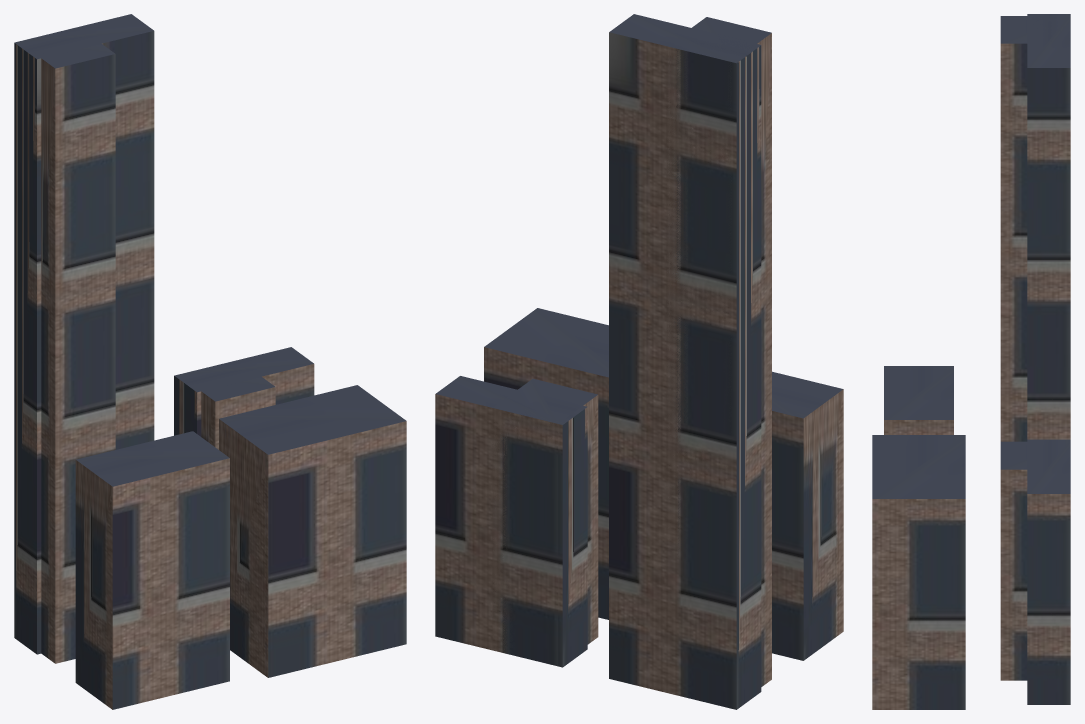
The model's file is block_12.obj.
The picture shows the model from 3 angles, left to right: view 1: azimuth 30°, elevation 25°; view 2: azimuth 150°, elevation 25°; view 3: azimuth 270°, elevation 25°; orthographic projection. The views are drawn at different scales.
Visible parts, largest first — view 1: b0, b3, b1, b2; view 2: b0, b2, b1, b3; view 3: b0, b3, b2, b1.
Part boxes in pixels (x1,y1,x2,y2): b0: [14, 14, 154, 663]; b3: [219, 385, 406, 677]; b1: [75, 431, 229, 709]; b2: [174, 347, 314, 449]; b0: [609, 14, 771, 709]; b2: [435, 376, 598, 667]; b1: [772, 371, 843, 660]; b3: [484, 308, 608, 619]; b0: [1000, 14, 1070, 441]; b3: [872, 435, 965, 709]; b2: [1000, 439, 1070, 704]; b1: [884, 366, 953, 434].
Bounding box in the file's own units: 4.05 × 8 × 2.55.
